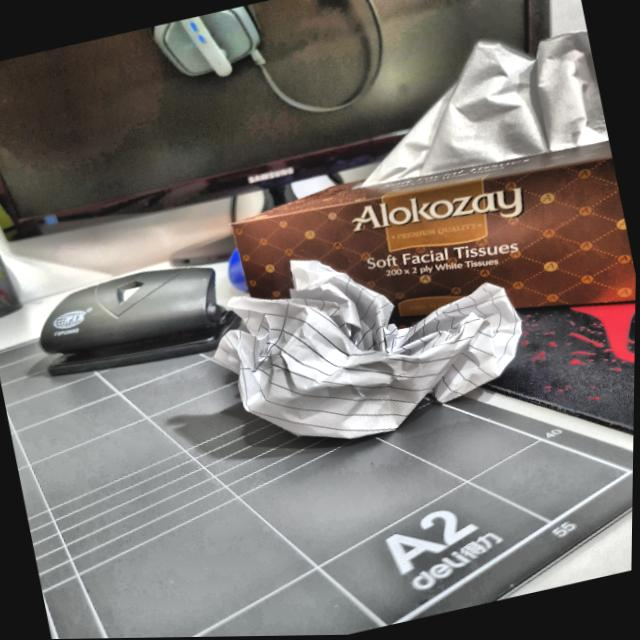Paper: (200, 216, 541, 466)
